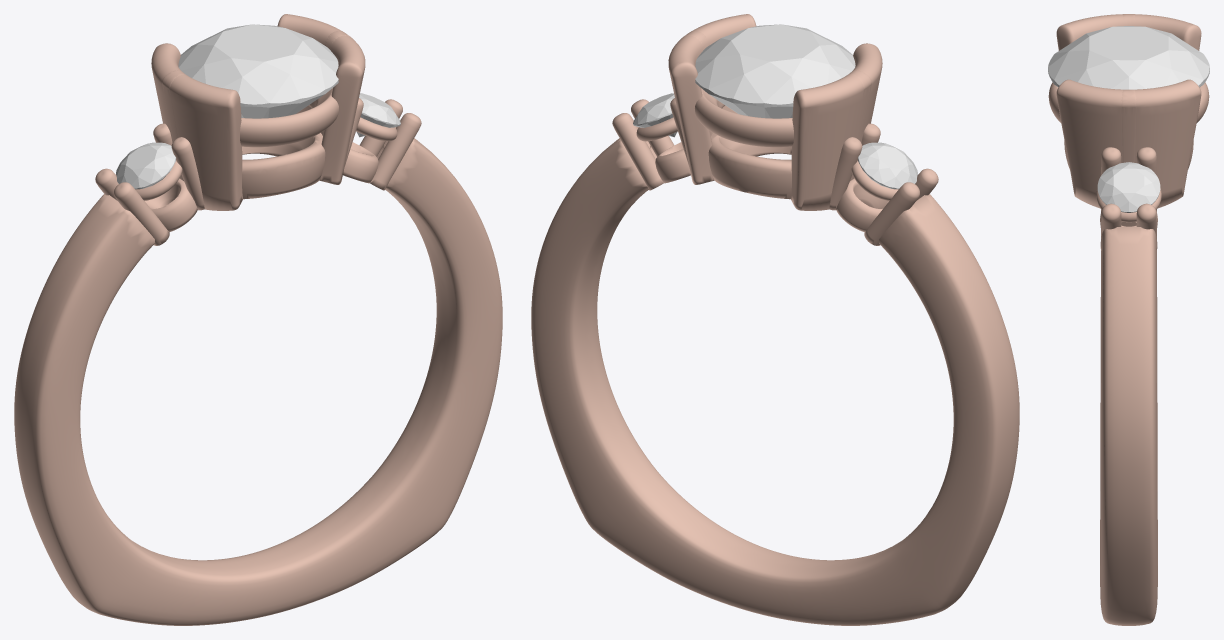
Rendered from diamond-round-rosegold-halfmoonbezel-europeanshank-2stone.glb.
3 renders of one model, left to right at view 1: azimuth 30°, elevation 25°; view 2: azimuth 150°, elevation 25°; view 3: azimuth 270°, elevation 25°, orthographic. The views are drawn at different scales.
Visible parts, largest first — view 1: metal, stone, side.001, side; view 2: metal, stone, side.001, side; view 3: metal, stone, side.
Part boxes in pixels (x1,y1,x2,y2): metal: [14, 14, 502, 625]; stone: [178, 24, 338, 118]; side.001: [116, 142, 175, 189]; side: [356, 93, 400, 137]; metal: [531, 14, 1019, 625]; stone: [695, 24, 855, 118]; side.001: [858, 142, 917, 189]; side: [633, 93, 677, 137]; metal: [1048, 14, 1209, 625]; stone: [1048, 26, 1209, 89]; side: [1097, 162, 1160, 212].
Size of the model in its own units: 20.71 by 23.81 by 6.44.
